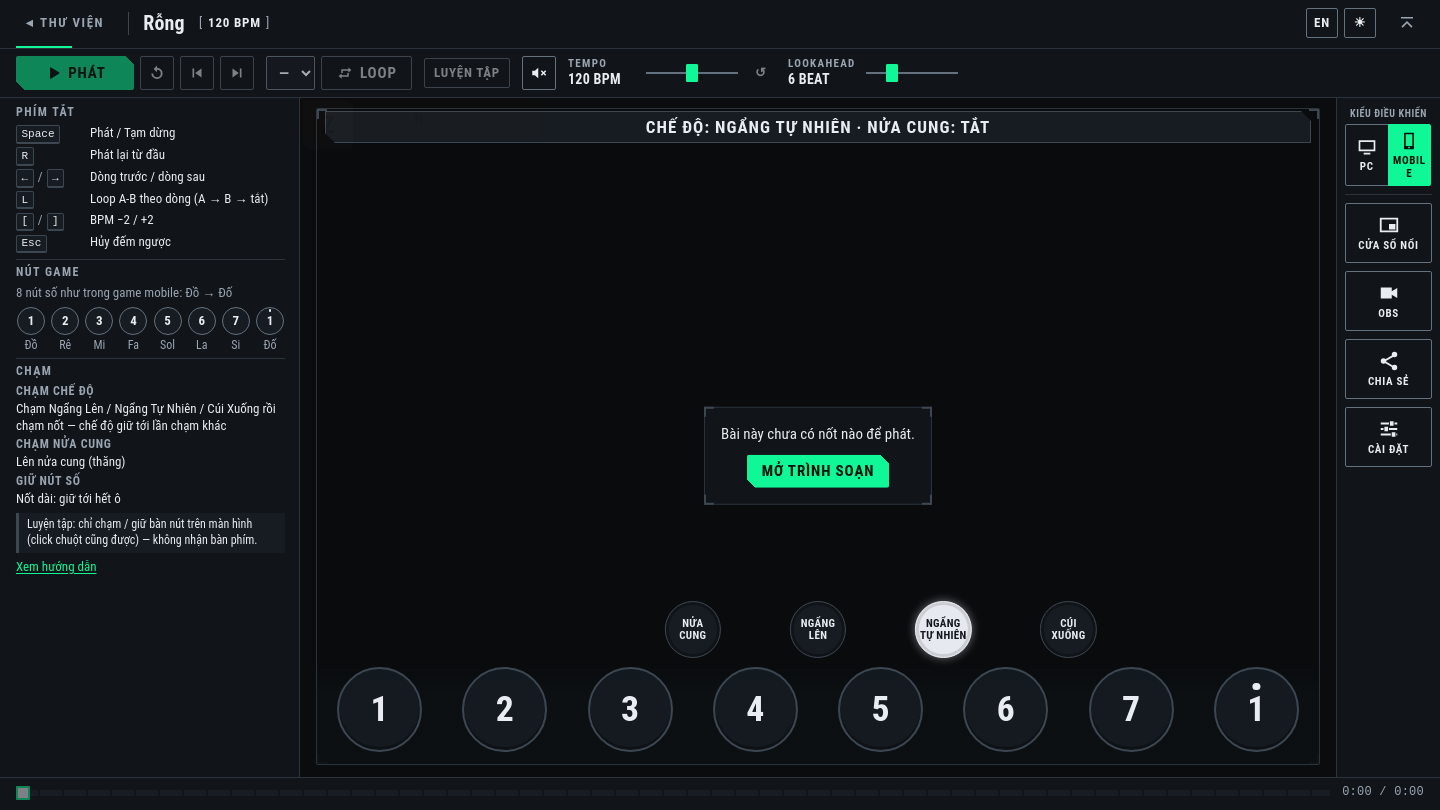
Scenario: màn chơi — nút loa (giai điệu mẫu) › kiểu Mobile và bài rỗng: nút loa vẫn có và dùng được
Step 1. Press the mouse on the button named "Tiếng giai điệu" → (539,73), box [522,56,556,90]
Step 2. Press the mouse on the button named "Tiếng giai điệu" → (539,73), box [522,56,556,90]
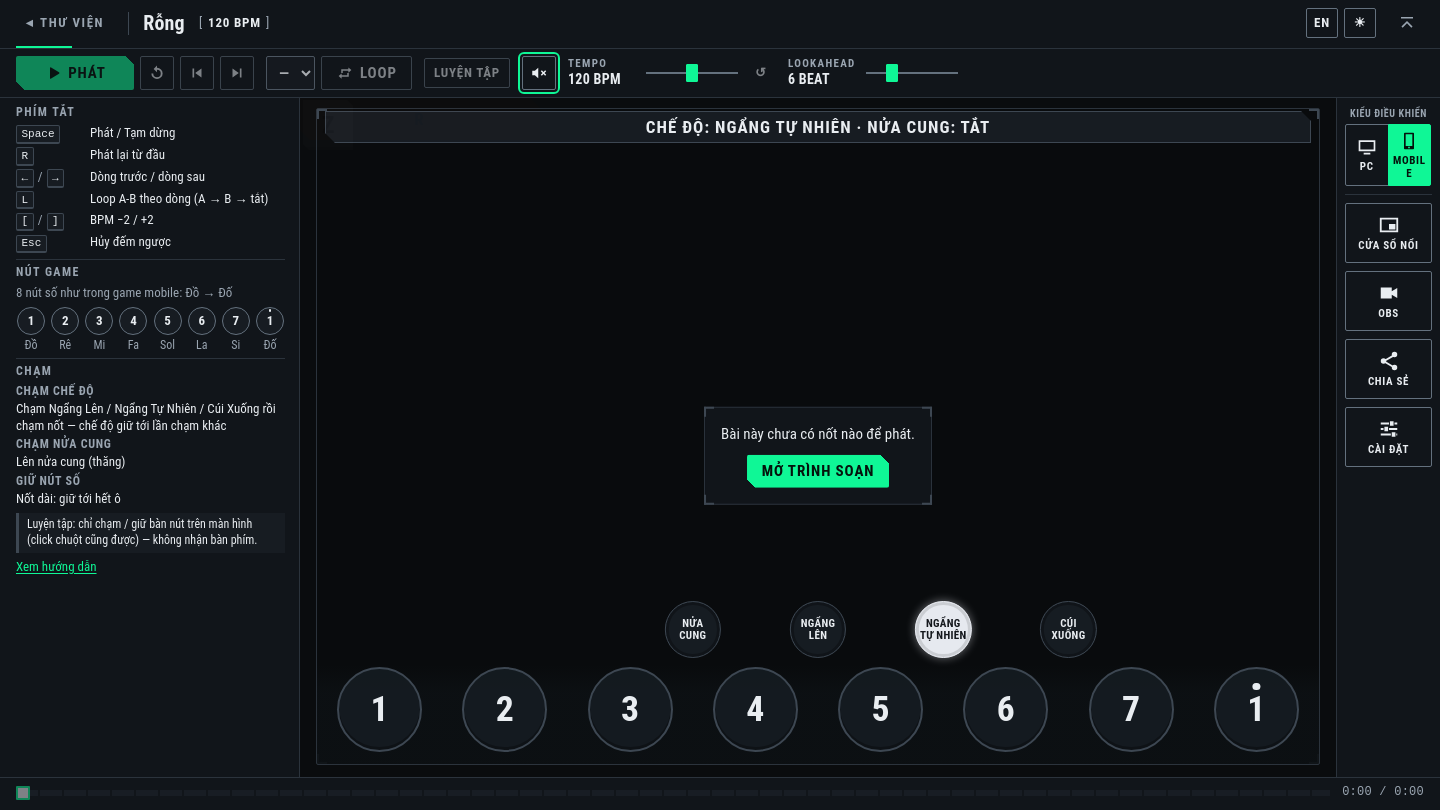
Step 3. Click the button named "Tiếng giai điệu" → (539,73), box [522,56,556,90]
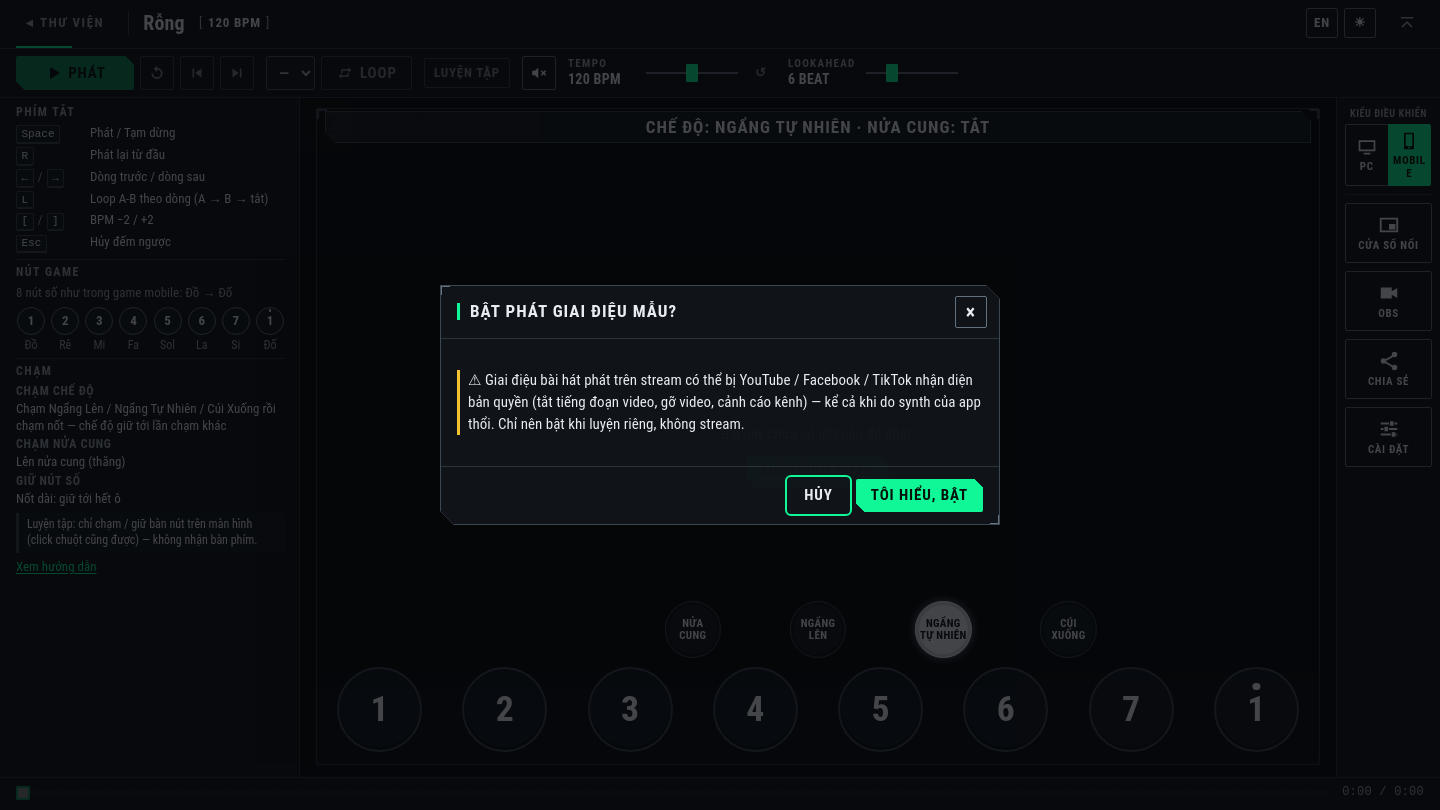
Check: the dialog "Bật phát giai điệu mẫu?" is shown, box [440,285,1000,525]
